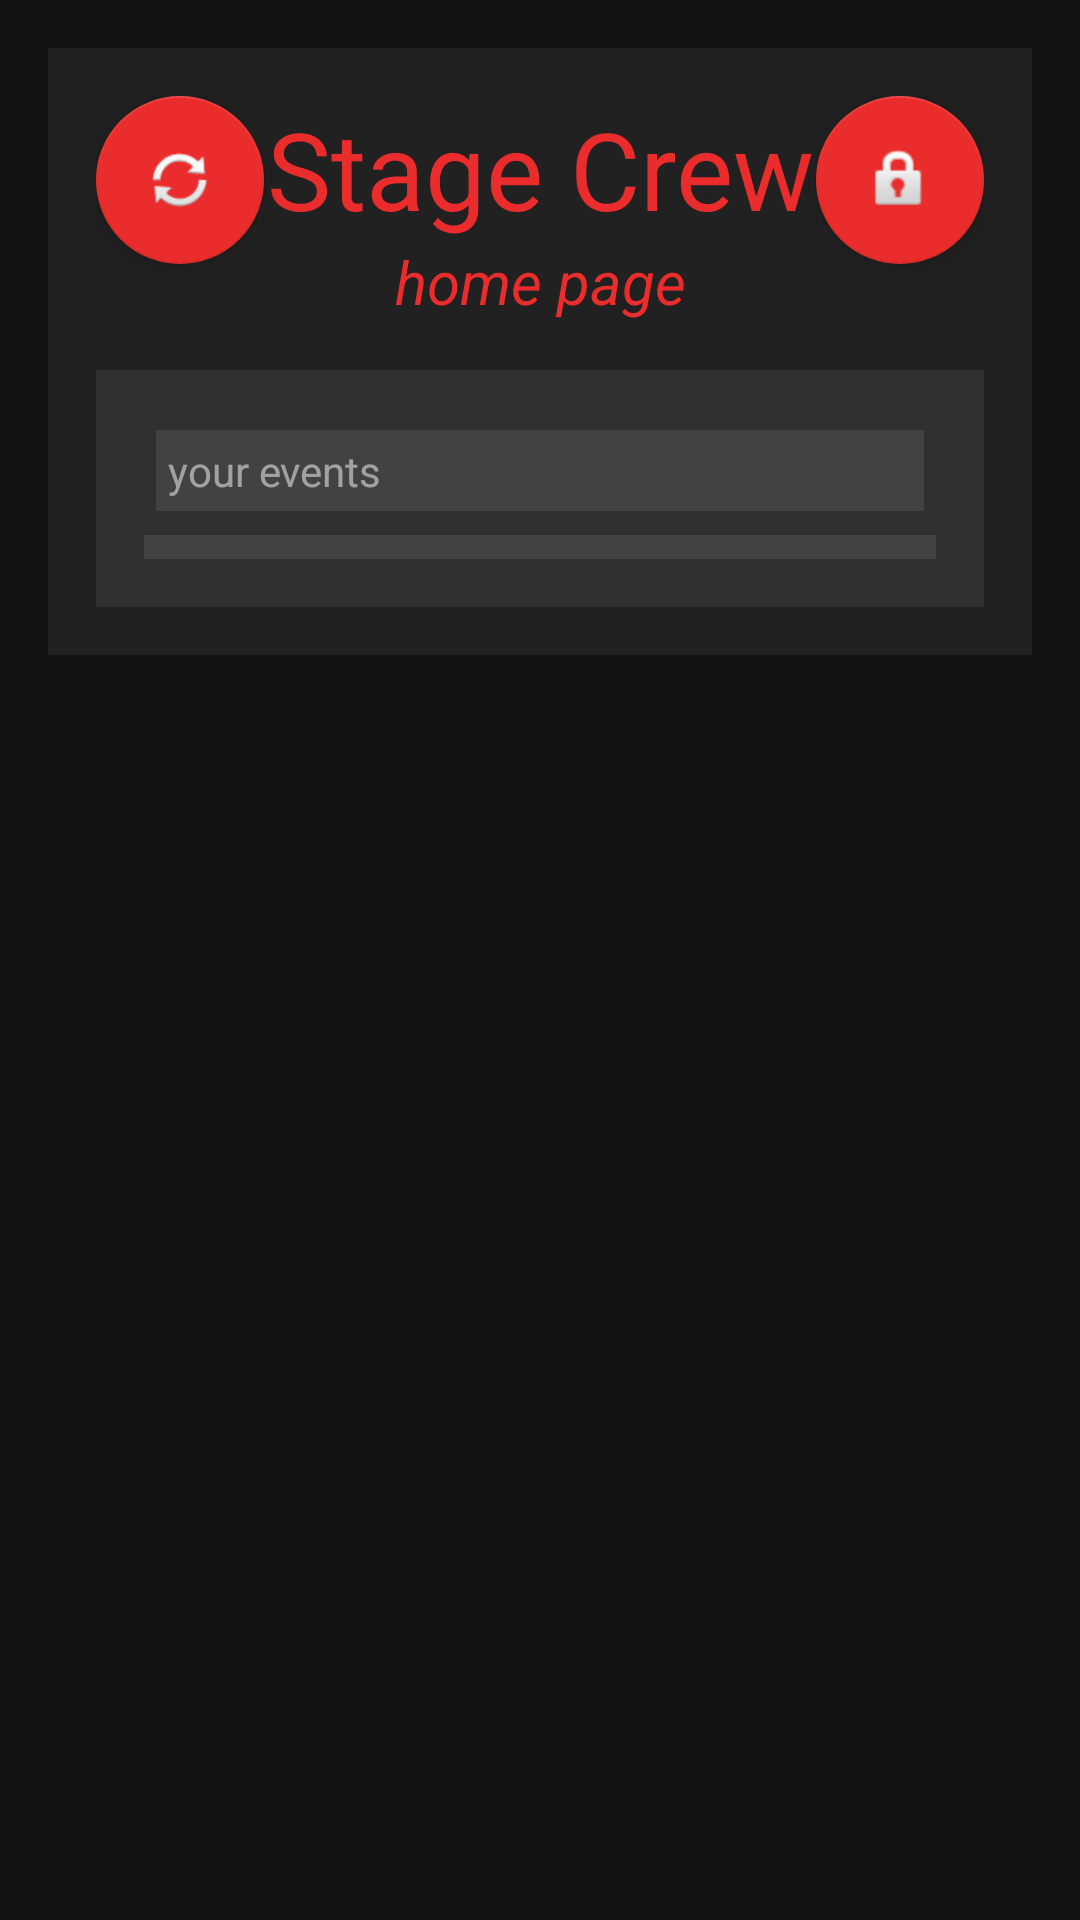

Point at icon controls on the screen. Image size 1080x1920, points as (x,y).
lock idle: (900,180)
popup sync: (180,180)
